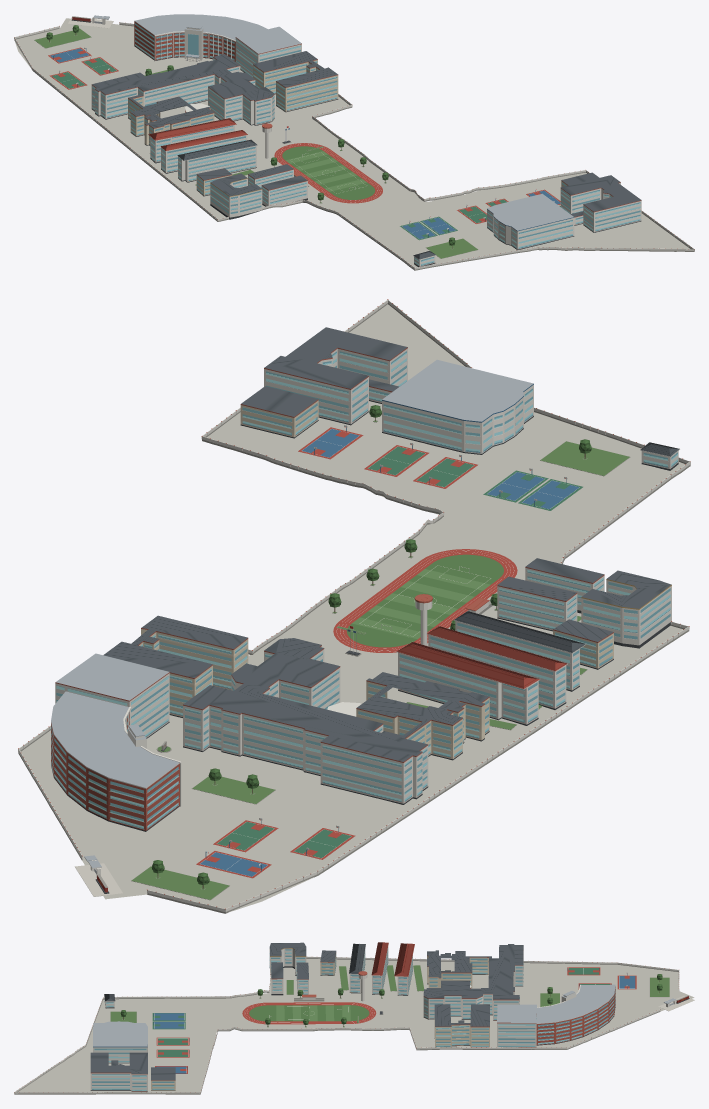
Rendered from glmu_dongcheng.glb.
3 renders of one model, top to bottom at view 1: azimuth 30°, elevation 25°; view 2: azimuth 150°, elevation 25°; view 3: azimuth 270°, elevation 25°, orthographic. The views are drawn at different scales.
Parts seen in each view (by area): view 1: lod0_atlas, lod0_lit, lod1_atlas; view 2: lod0_atlas, lod0_lit, lod1_atlas; view 3: lod0_atlas, lod0_lit, lod1_atlas.
Boxes of the visible parts, x1=… form: lod0_atlas: x1=14, y1=14, x2=694, y2=270; lod0_lit: x1=92, y1=23, x2=640, y2=265; lod1_atlas: x1=14, y1=22, x2=694, y2=269; lod0_atlas: x1=18, y1=299, x2=690, y2=913; lod0_lit: x1=51, y1=351, x2=677, y2=829; lod1_atlas: x1=18, y1=300, x2=690, y2=911; lod0_atlas: x1=14, y1=942, x2=694, y2=1094; lod0_lit: x1=92, y1=948, x2=615, y2=1090; lod1_atlas: x1=14, y1=956, x2=679, y2=1093.
Size of what is drawn, in the model's own units: 298 by 29.07 by 627.
2 materials, 2 textured.
